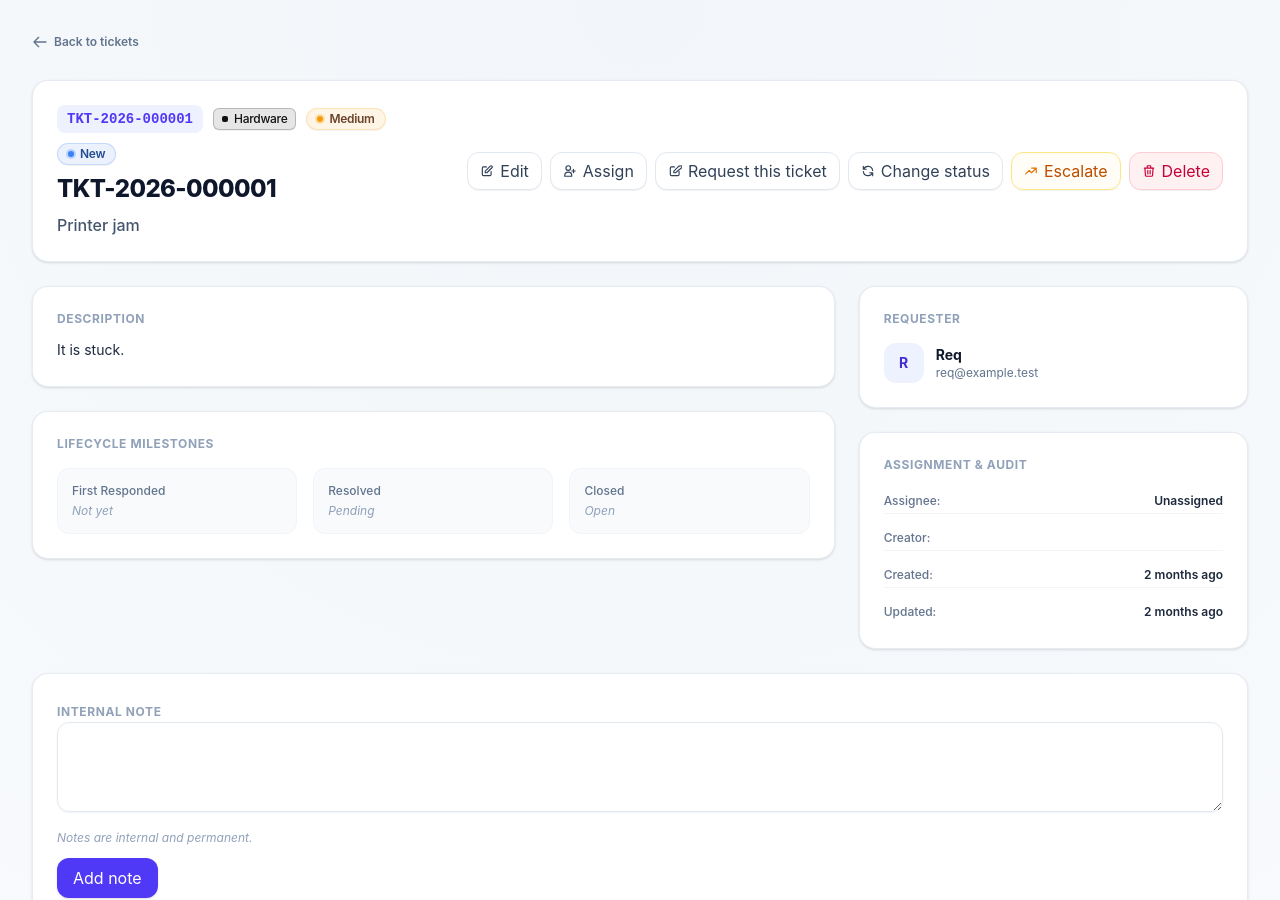
Test case: TicketDetailView status change › a 403 on the post-escalate refetch is reported as success, not an error
Click the button with test id "action-escalate".
click(1066, 171)  # box [1011,152,1120,190]
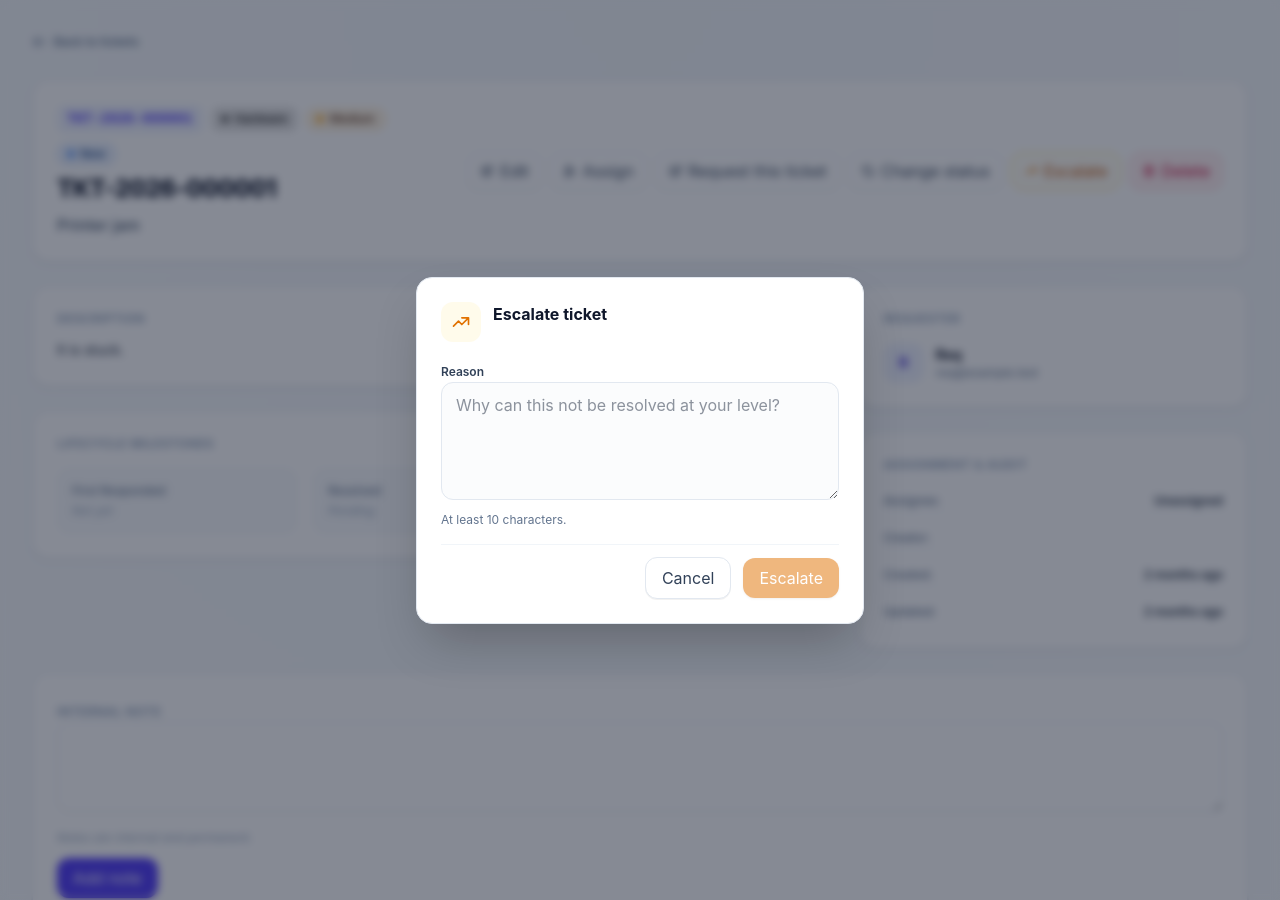
Type "A good enough reason." into the text box with test id "ticket-escalate-reason".
click(640, 440); type("A good enough reason.")  # box [441,382,839,500]
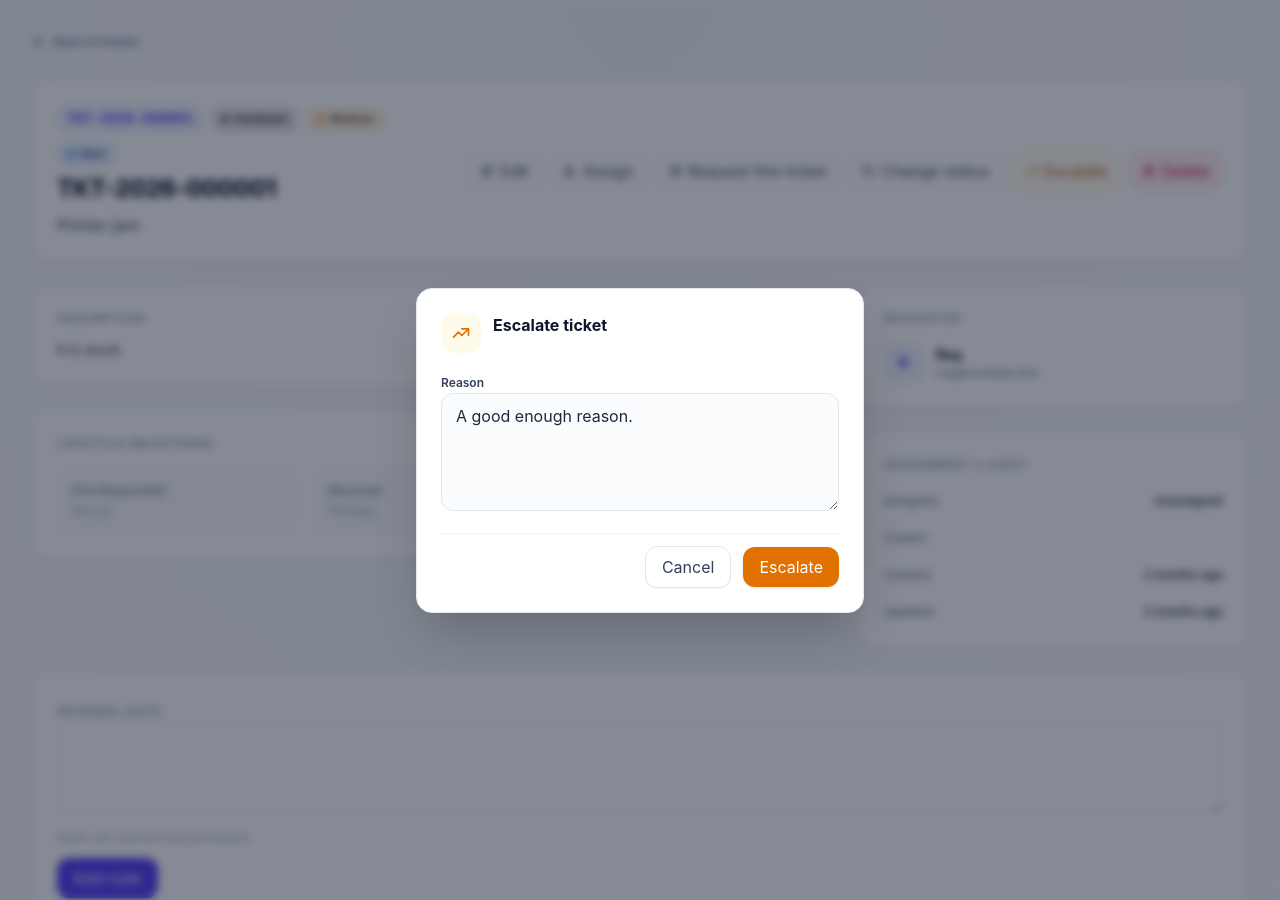
Click the button with test id "ticket-escalate-confirm".
click(791, 566)  # box [743,546,839,586]
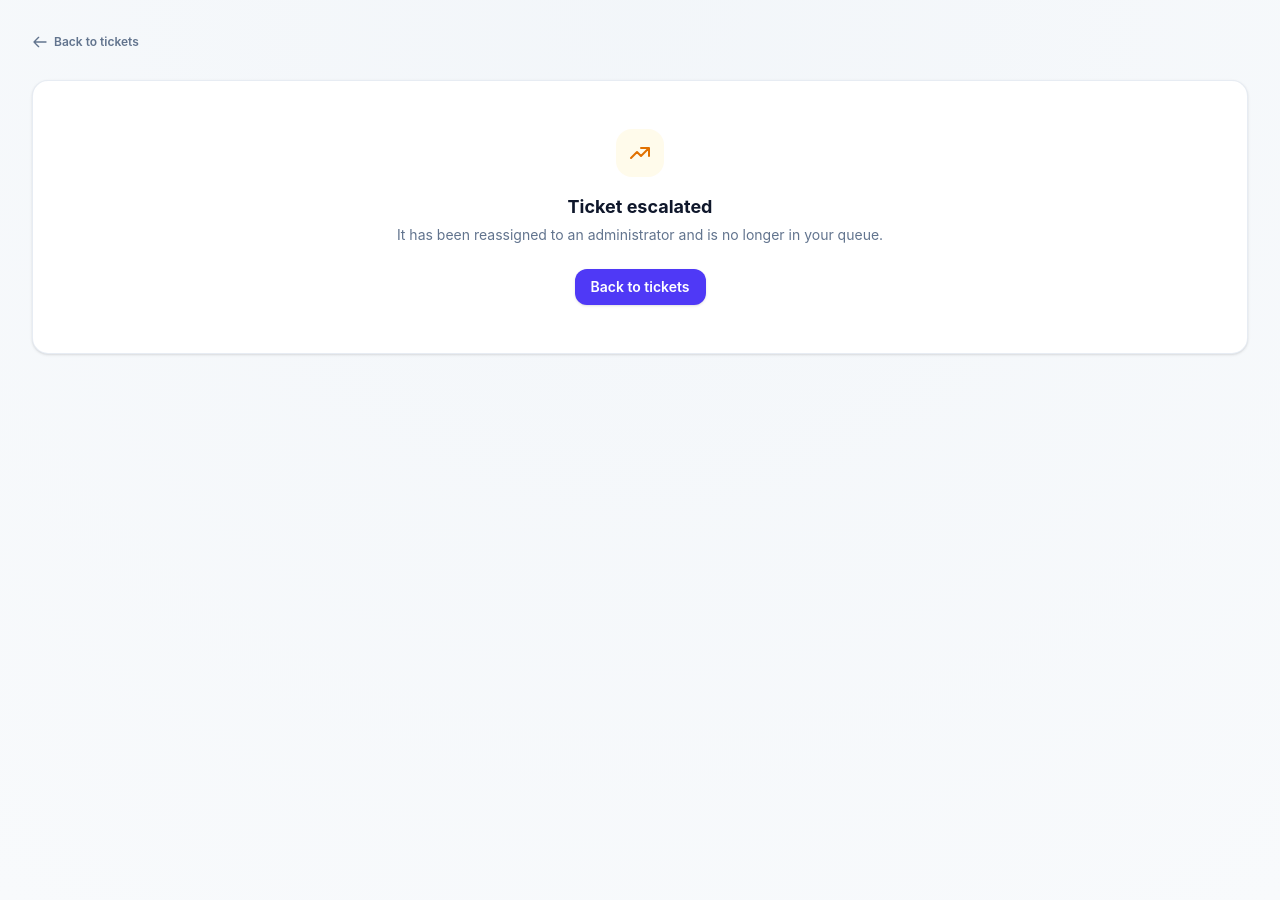
Now the element with test id "ticket-escalated-away" shows "Ticket escalated", box [568,196,712,217]
